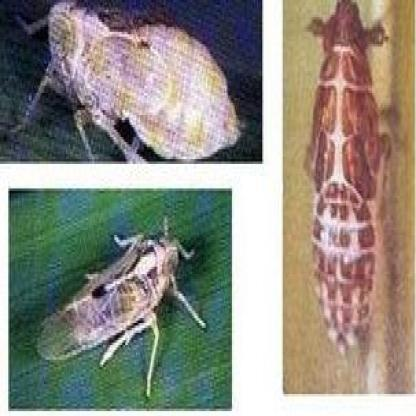brown-planthopper: (44, 0, 240, 158), (313, 6, 380, 351), (38, 222, 190, 366)
